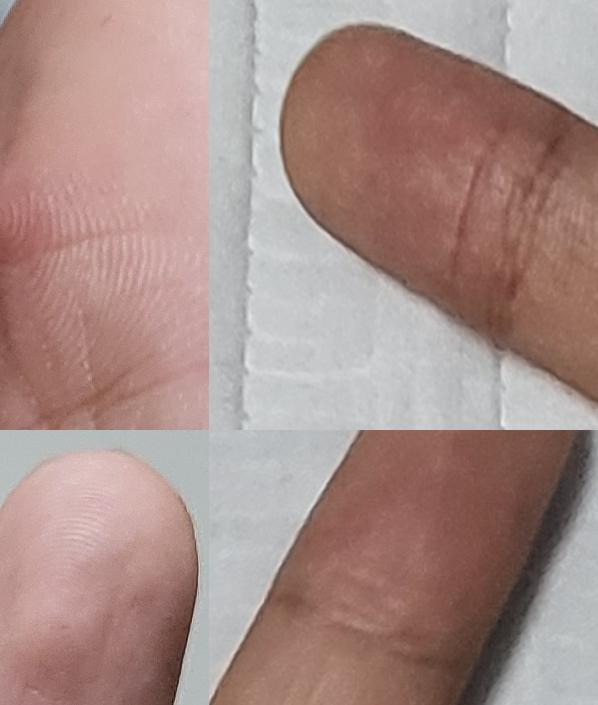Fingerprints: (278, 22, 578, 341), (0, 0, 209, 430), (263, 430, 579, 679), (0, 449, 200, 705)
